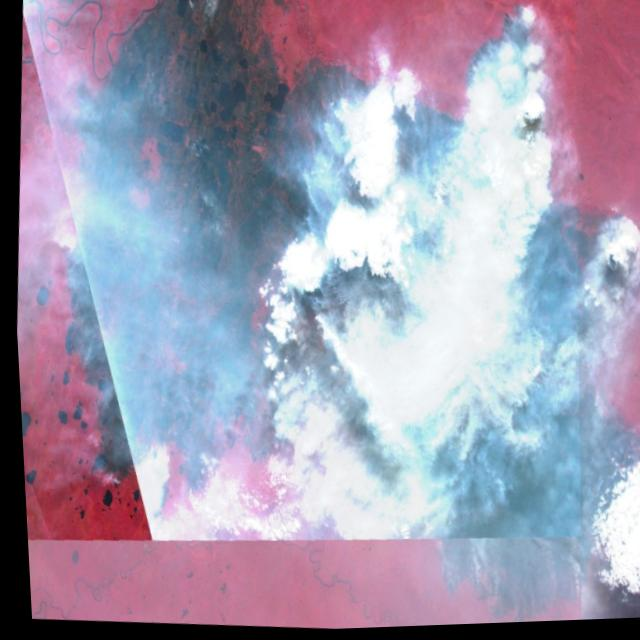fire: (35, 191, 187, 501), (338, 485, 585, 631), (445, 0, 557, 190), (576, 210, 640, 300)
